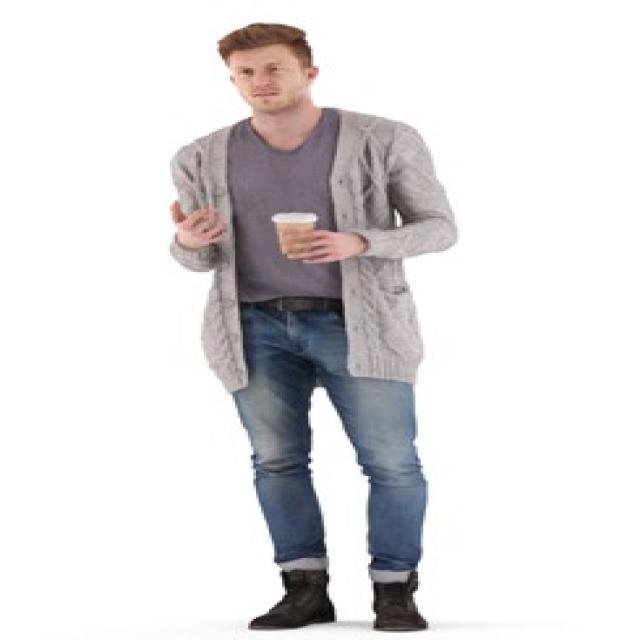standing: (162, 20, 466, 632)
